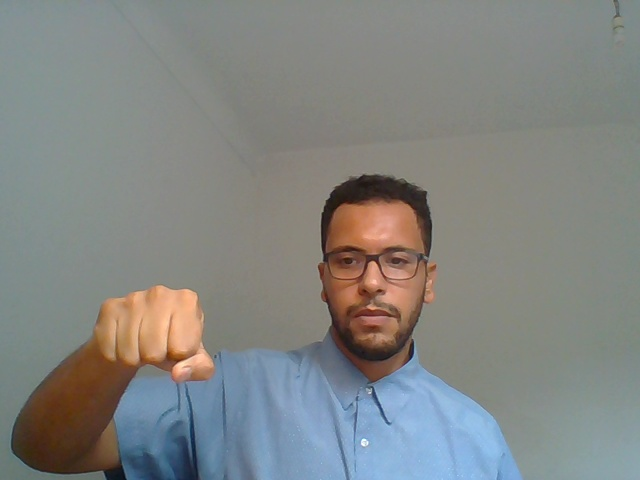yes: (74, 261, 245, 427)
